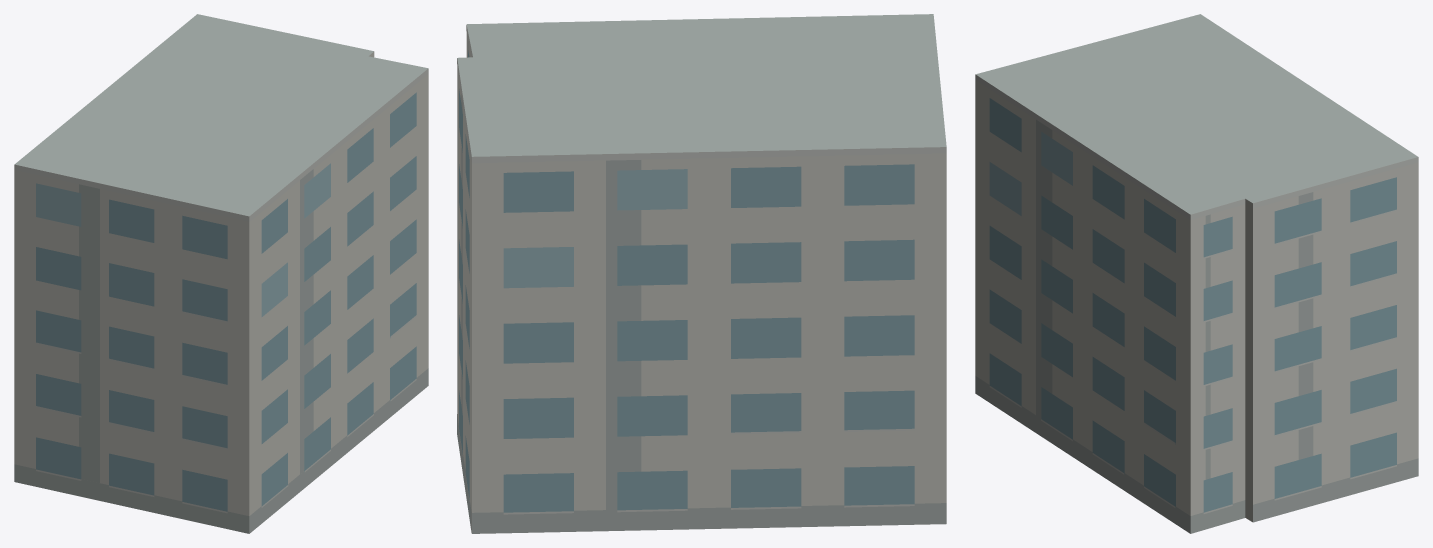
File: survey-upis-32885278.glb
3 renders of one model, left to right at view 1: azimuth 30°, elevation 25°; view 2: azimuth 150°, elevation 25°; view 3: azimuth 270°, elevation 25°, orthographic. The views are drawn at different scales.
Parts seen in each view (by area): view 1: survey-upis-32885278.tmp; view 2: survey-upis-32885278.tmp; view 3: survey-upis-32885278.tmp.
Part boxes in pixels (bbox=[...]): survey-upis-32885278.tmp: bbox=[14, 14, 428, 533]; survey-upis-32885278.tmp: bbox=[457, 14, 946, 533]; survey-upis-32885278.tmp: bbox=[975, 14, 1418, 533].
Bounding box in the file's own units: 19.03 × 14.1 × 17.75.
